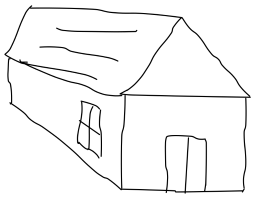big_house: (0, 0, 258, 195)
closed_window: (75, 97, 105, 159)
door: (156, 126, 217, 197)
roof: (3, 4, 253, 98)
wall: (118, 83, 250, 195)
